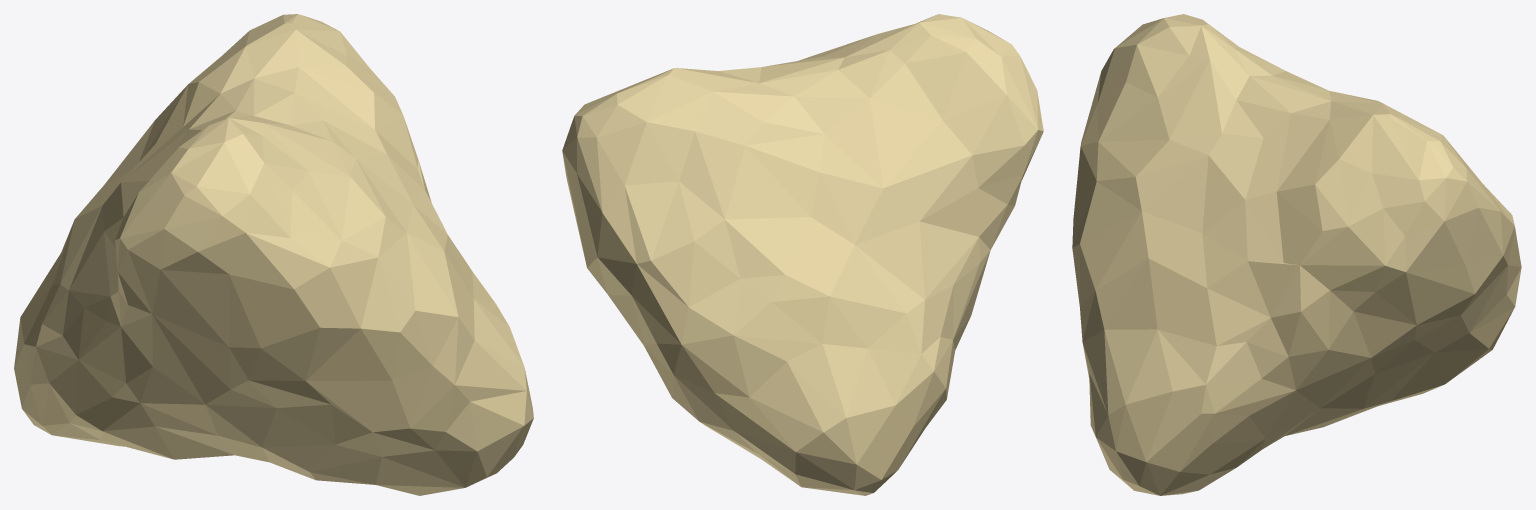
File: Asteroid (47).fbx
3 views of the same model, side by side, from view 1: azimuth 30°, elevation 25°; view 2: azimuth 150°, elevation 25°; view 3: azimuth 270°, elevation 25° (orthographic). The views are drawn at different scales.
Parts seen in each view (by area): view 1: Asteroid204; view 2: Asteroid204; view 3: Asteroid204.
Boxes of the visible parts, x1,y1,x2,y2 form: Asteroid204: (14,14,533,495); Asteroid204: (562,14,1043,495); Asteroid204: (1072,14,1521,495).
Size of the model in its own units: 301 by 302 by 323.
